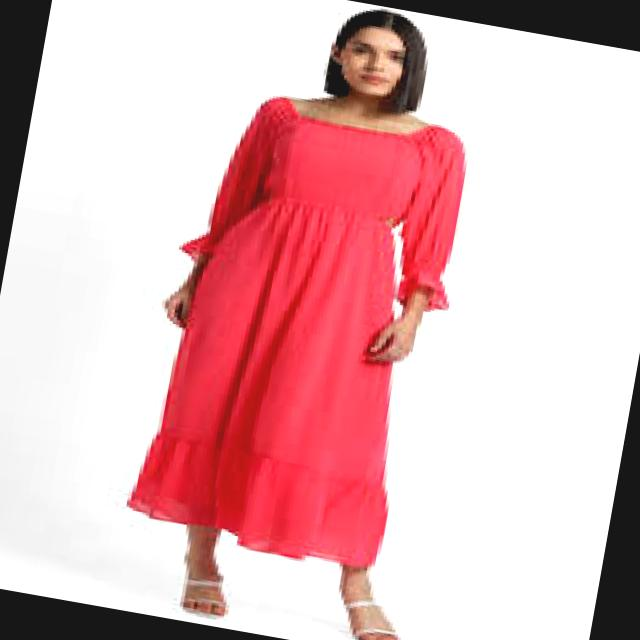dress: (127, 97, 466, 567)
